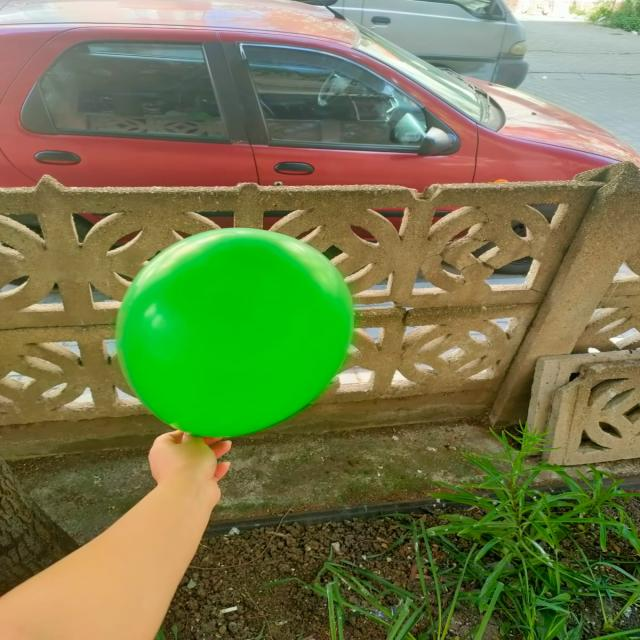green: (121, 229, 354, 441)
